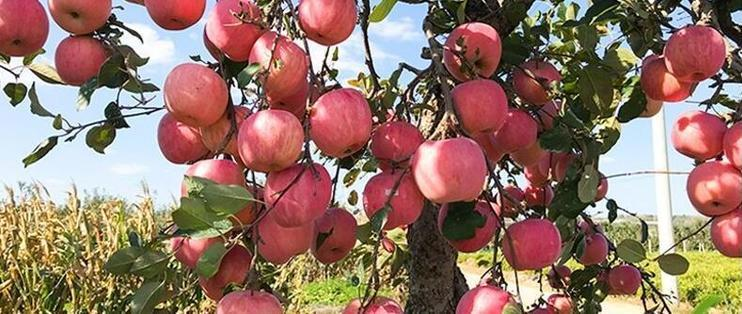apple: (411, 138, 488, 201), (264, 160, 334, 227), (308, 88, 374, 157), (249, 35, 307, 108), (238, 110, 303, 173), (164, 62, 227, 125), (359, 169, 423, 230), (664, 22, 726, 83), (447, 77, 509, 135), (670, 107, 731, 163), (498, 218, 561, 271), (446, 20, 503, 78), (687, 159, 742, 215), (54, 33, 111, 84), (296, 1, 358, 47), (311, 205, 358, 265), (1, 1, 49, 59), (47, 1, 112, 34), (141, 1, 205, 30)
